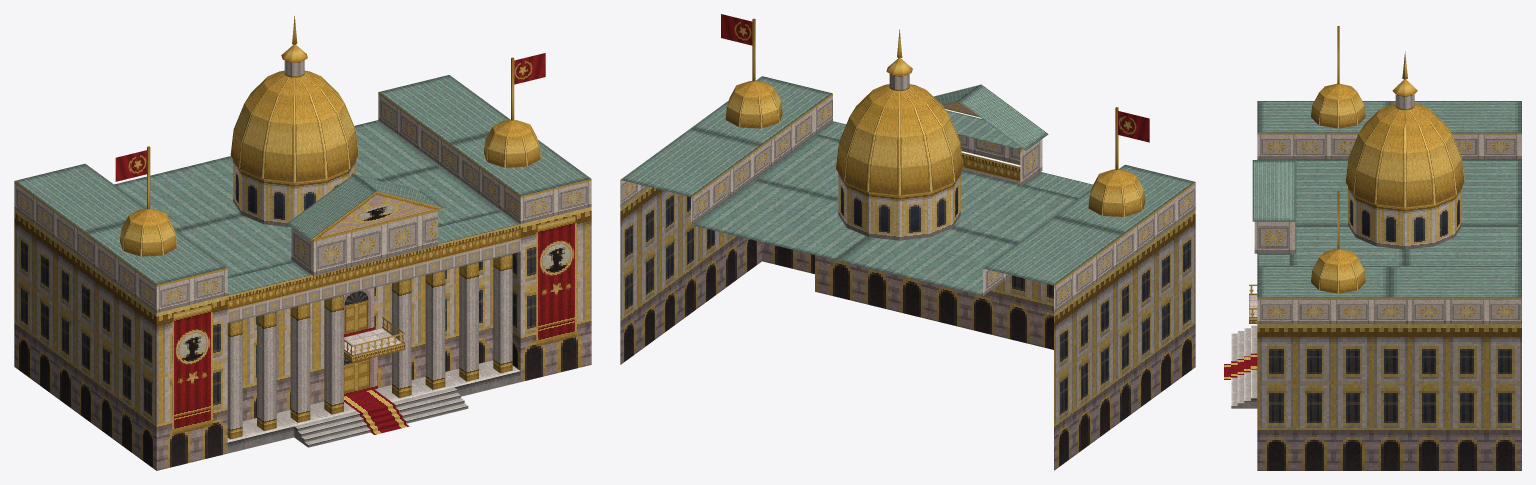
Rendered from env_bld_civic_rich.glb.
3 views of the same model, side by side, from view 1: azimuth 30°, elevation 25°; view 2: azimuth 150°, elevation 25°; view 3: azimuth 270°, elevation 25° (orthographic). The views are drawn at different scales.
Visible parts, largest first — view 1: env_bld_civic_rich; view 2: env_bld_civic_rich; view 3: env_bld_civic_rich.
Boxes of the visible parts, box(x1,y1,x2,y2) form: env_bld_civic_rich: box(14, 16, 591, 470); env_bld_civic_rich: box(620, 14, 1195, 470); env_bld_civic_rich: box(1224, 26, 1521, 470).
Size of the model in its own units: 0.049 by 0.0372 by 0.0313.
3 materials, 3 textured.
